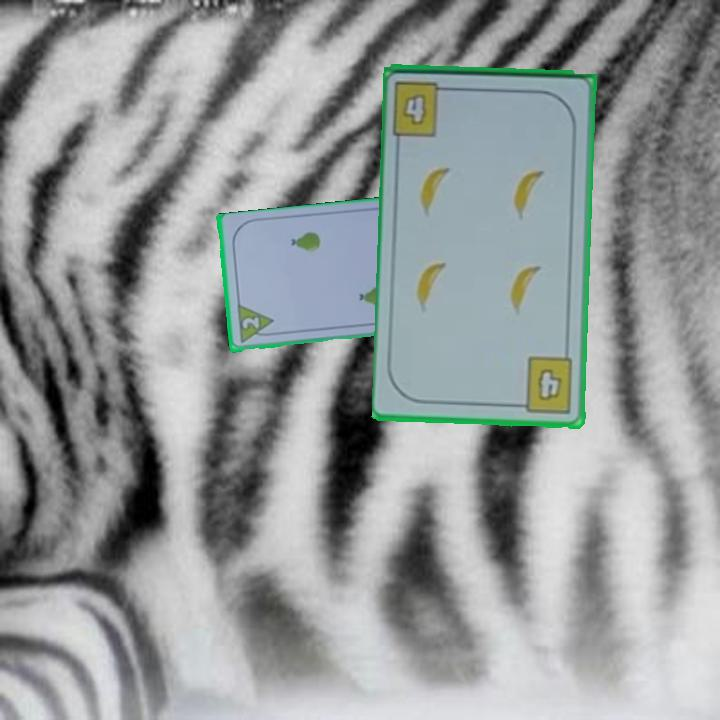2p: (238, 313, 262, 332)
4b: (390, 77, 456, 139), (512, 353, 576, 416)
